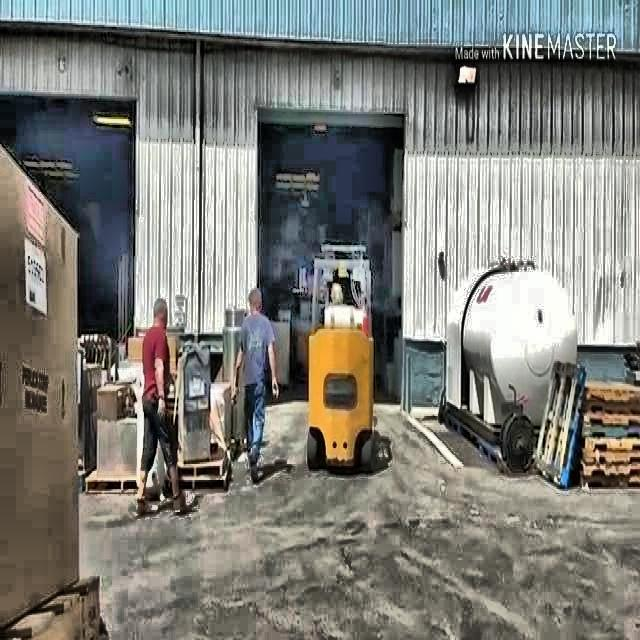bull_dozer/loader/grader: (301, 244, 386, 478)
person: (136, 293, 191, 523), (226, 274, 279, 484)
